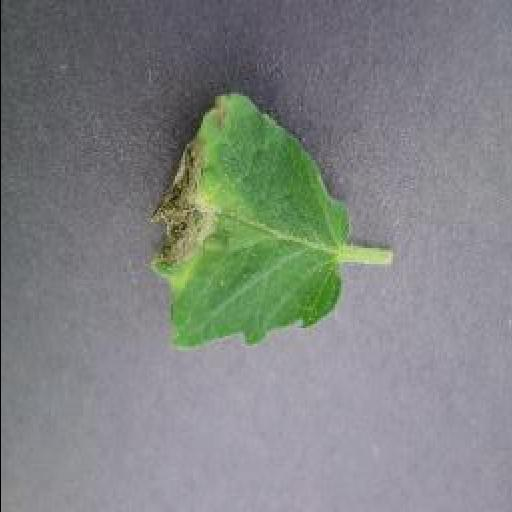disease_tomato: (143, 96, 349, 354)
